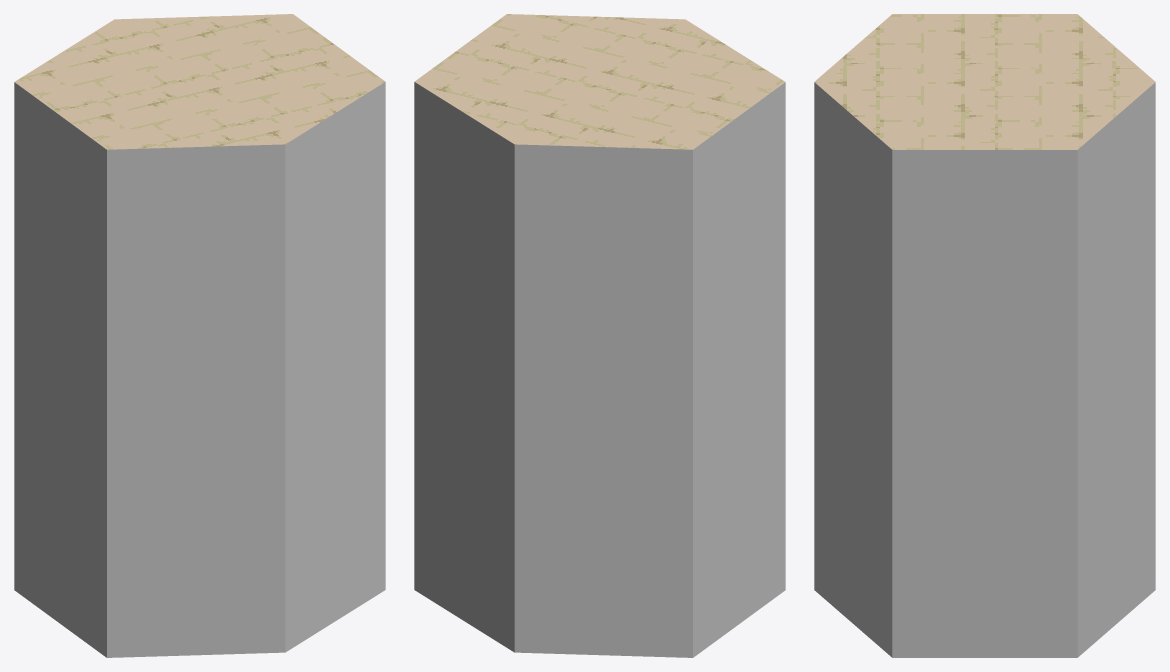
The model's file is Tower.fbx.
3 renders of one model, left to right at view 1: azimuth 30°, elevation 25°; view 2: azimuth 150°, elevation 25°; view 3: azimuth 270°, elevation 25°, orthographic.
Visible parts, largest first — view 1: Tower; view 2: Tower; view 3: Tower.
Part boxes in pixels (x1=…): Tower: x1=14, y1=14, x2=385, y2=657; Tower: x1=414, y1=14, x2=785, y2=657; Tower: x1=814, y1=14, x2=1155, y2=657.
Size of the model in its own units: 2894 by 5041 by 3072.
